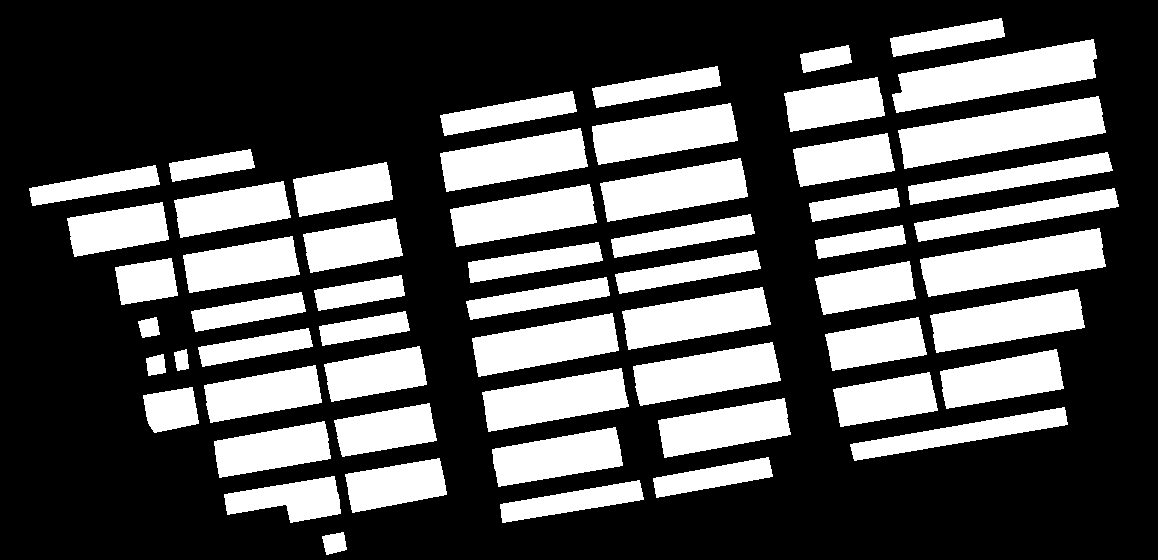parkingspot: (850, 407, 1067, 460), (898, 96, 1102, 150), (902, 114, 1105, 168), (892, 58, 1095, 112), (914, 188, 1118, 241), (908, 152, 1112, 204), (898, 39, 1096, 92), (920, 228, 1102, 278), (924, 247, 1105, 296), (930, 289, 1081, 334), (933, 307, 1084, 352), (635, 360, 780, 405), (440, 128, 584, 173), (472, 313, 615, 358), (475, 331, 618, 376), (485, 386, 628, 431), (604, 176, 747, 221), (482, 368, 624, 413), (625, 305, 770, 349), (443, 147, 587, 191), (600, 158, 744, 202), (450, 184, 593, 228), (633, 342, 776, 386), (615, 250, 760, 293), (622, 287, 766, 330), (453, 203, 596, 246), (594, 121, 737, 164), (611, 214, 754, 257), (592, 103, 734, 146), (500, 480, 643, 522), (466, 277, 609, 319), (440, 91, 576, 135), (468, 242, 602, 282), (658, 398, 787, 439), (661, 416, 790, 457), (592, 66, 720, 107), (492, 427, 619, 468), (495, 445, 622, 486), (29, 165, 159, 205), (940, 349, 1060, 390), (942, 368, 1063, 408), (653, 457, 772, 497), (206, 383, 321, 422), (204, 365, 318, 404), (191, 292, 305, 331), (177, 198, 290, 237), (198, 328, 312, 366), (214, 421, 328, 459), (216, 439, 330, 477), (890, 18, 1004, 56), (224, 476, 337, 514), (174, 181, 286, 219), (183, 236, 295, 274), (186, 255, 299, 292), (833, 372, 933, 409), (324, 346, 423, 383), (327, 364, 426, 401), (837, 390, 937, 426), (67, 202, 165, 238), (70, 220, 168, 256), (345, 458, 443, 494), (348, 476, 446, 512), (293, 162, 390, 198), (787, 95, 884, 131), (337, 421, 436, 456), (306, 236, 402, 272), (784, 77, 880, 113), (334, 403, 432, 438), (796, 151, 894, 186), (303, 218, 398, 254), (825, 317, 922, 352), (815, 261, 912, 296), (793, 133, 890, 168), (296, 181, 392, 216), (819, 279, 915, 314), (829, 336, 926, 370), (314, 275, 404, 310), (319, 311, 409, 345), (815, 225, 905, 258), (809, 188, 899, 221), (169, 149, 254, 181), (115, 258, 174, 286), (118, 276, 177, 304), (286, 494, 340, 522), (146, 404, 198, 432), (143, 387, 195, 414), (800, 45, 851, 72), (322, 532, 346, 554), (138, 317, 159, 337), (146, 354, 165, 375), (174, 349, 188, 370)
